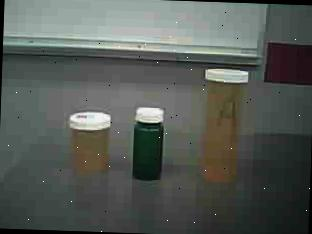Bottle A: (191, 62, 256, 193)
Bottle B: (66, 108, 116, 175)
Bottle C: (126, 103, 177, 185)
